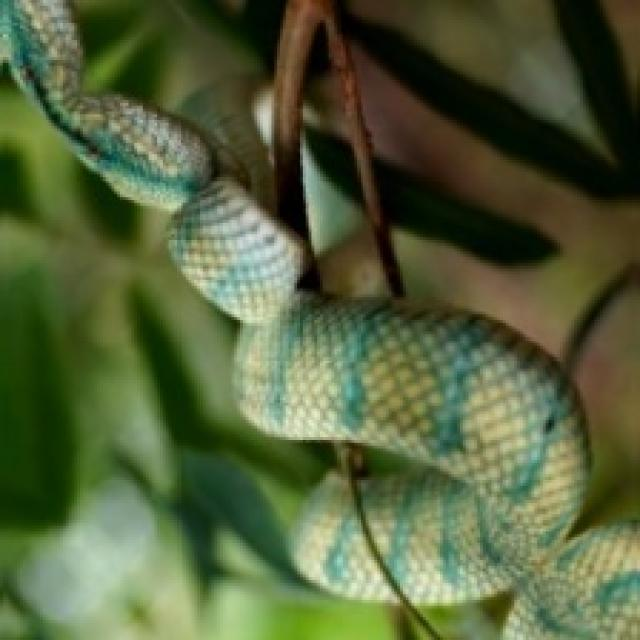north ph temple pitviper: (0, 0, 637, 637), (0, 149, 391, 637)
